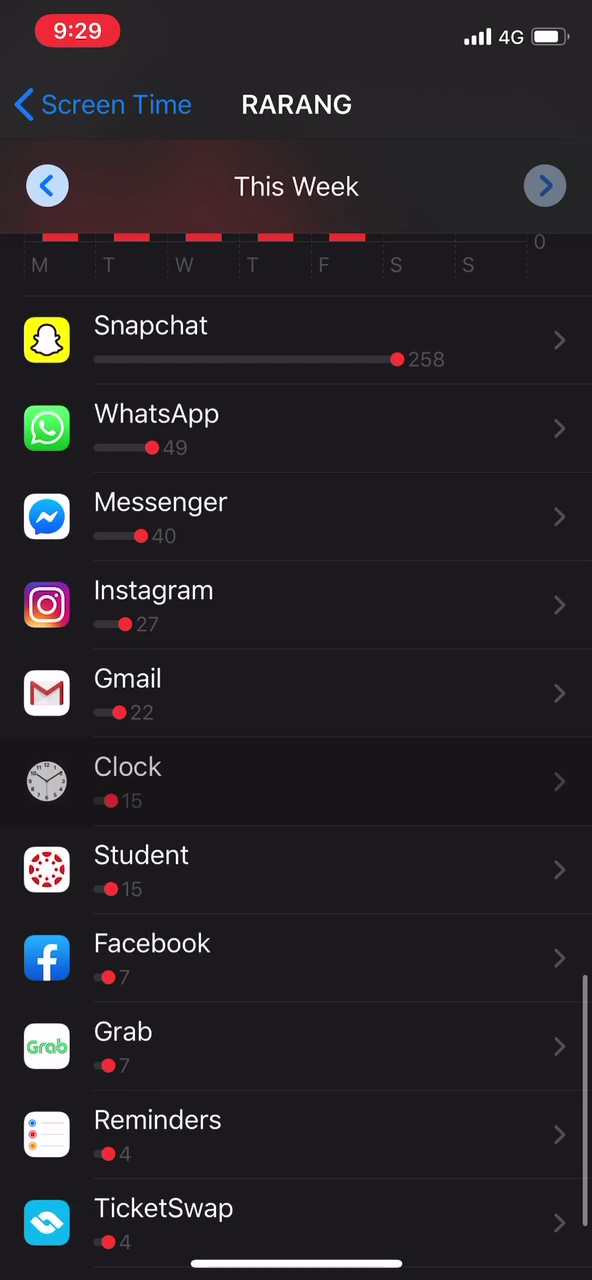not_app: (14, 301, 474, 389), (14, 914, 237, 999), (18, 477, 258, 555), (12, 1179, 251, 1257), (15, 391, 251, 464), (14, 1099, 239, 1175), (18, 654, 247, 727), (15, 569, 233, 644), (15, 828, 219, 905), (18, 744, 194, 822), (15, 1005, 194, 1080)
week: (229, 163, 370, 207)
